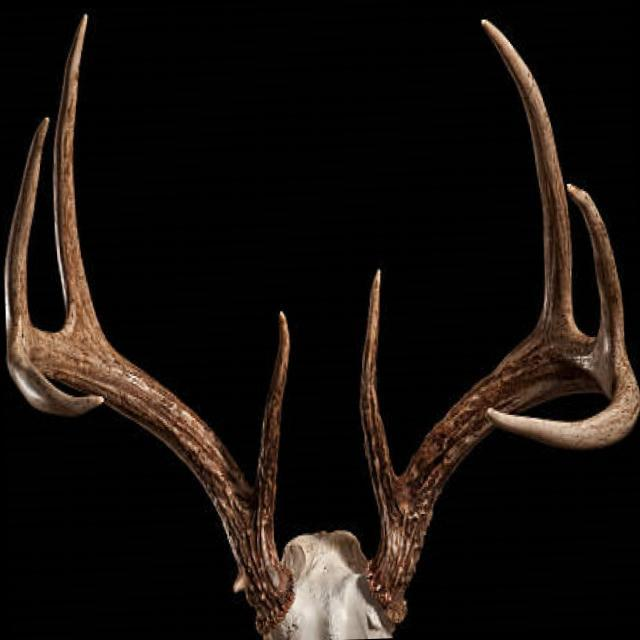E1: (233, 574, 247, 593)
L-G1: (359, 269, 400, 521)
L-G2: (480, 16, 575, 329)
L-G3: (566, 182, 625, 354)
R-F: (7, 331, 296, 634)
R-G1: (250, 309, 290, 521)
R-G2: (52, 13, 104, 339)
R-G3: (3, 116, 49, 346)
